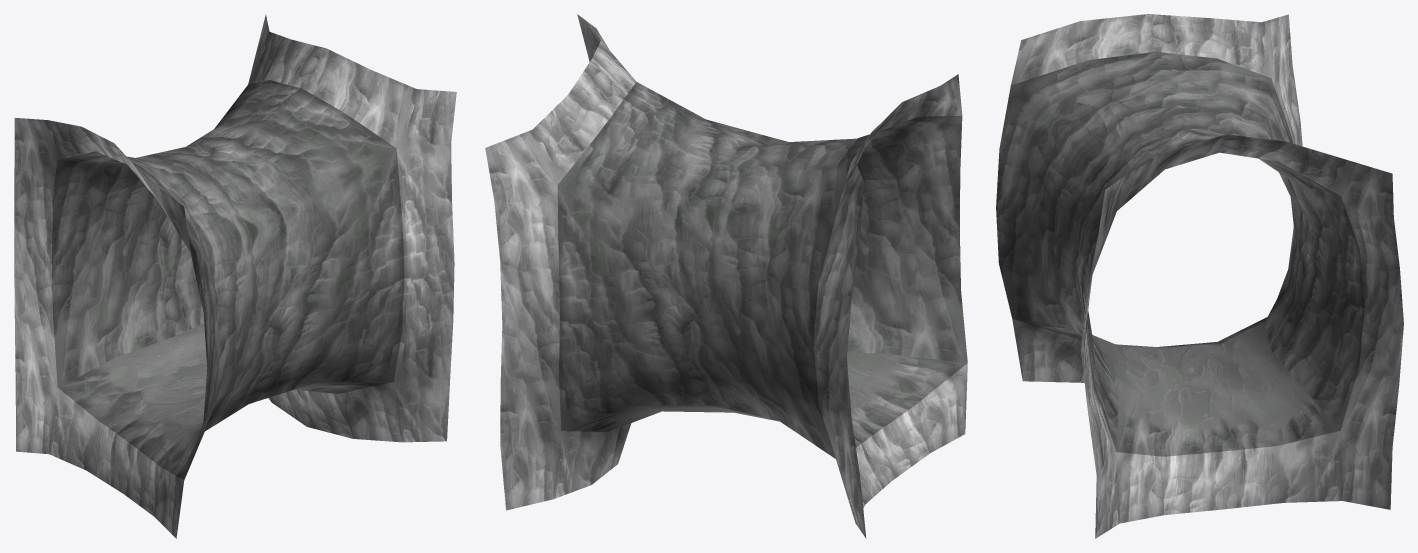
File: SWORDLIGHT20_PS-AREA03_20.fbx
3 views of the same model, side by side, from view 1: azimuth 30°, elevation 25°; view 2: azimuth 150°, elevation 25°; view 3: azimuth 270°, elevation 25° (orthographic). The views are drawn at different scales.
Parts seen in each view (by area): view 1: SWORDLIGHT20_PS-AREA03_20; view 2: SWORDLIGHT20_PS-AREA03_20; view 3: SWORDLIGHT20_PS-AREA03_20.
Boxes of the visible parts, box(x1,y1,x2,y2) form: SWORDLIGHT20_PS-AREA03_20: box(14, 14, 456, 538); SWORDLIGHT20_PS-AREA03_20: box(485, 14, 967, 538); SWORDLIGHT20_PS-AREA03_20: box(996, 14, 1403, 538).
Bounding box in the file's own units: 150467 × 150709 × 144163.
4 materials, 4 textured.
